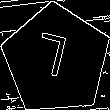L_S: (36, 31, 77, 88)
